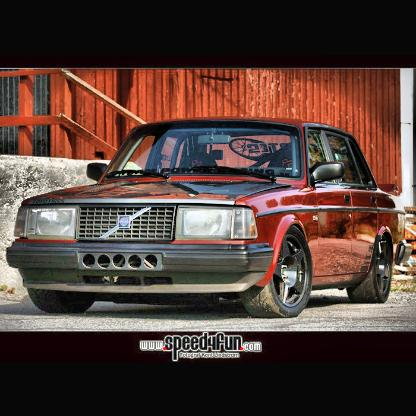Volvo 240 Sedan 1993: (5, 113, 412, 322)
